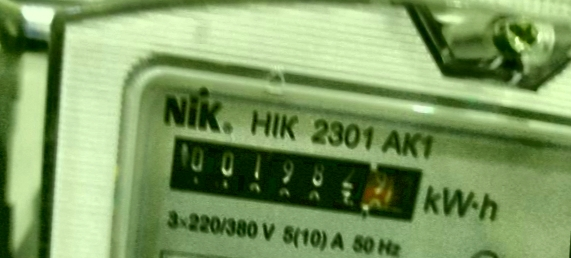0: (185, 140, 204, 170), (215, 145, 234, 175)
1: (247, 147, 261, 177)
2: (337, 157, 357, 187)
8: (307, 156, 325, 185)
9: (367, 165, 389, 194), (276, 152, 293, 182)
screen: (148, 118, 435, 233)
